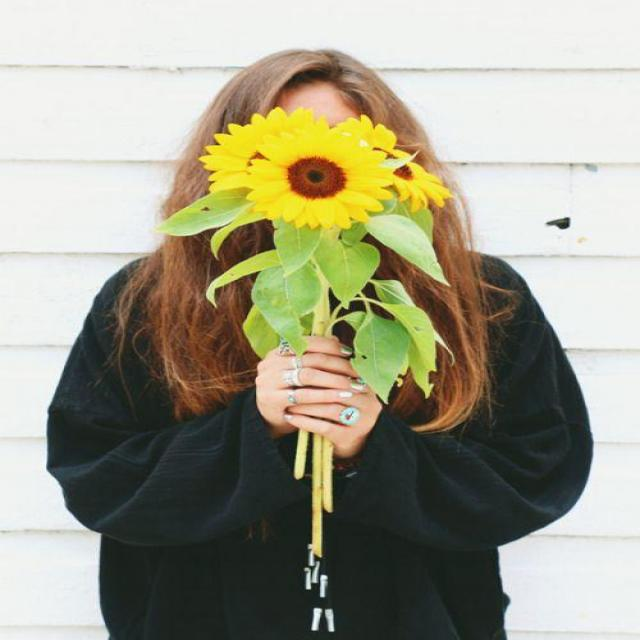organic waste: (246, 134, 390, 222)
